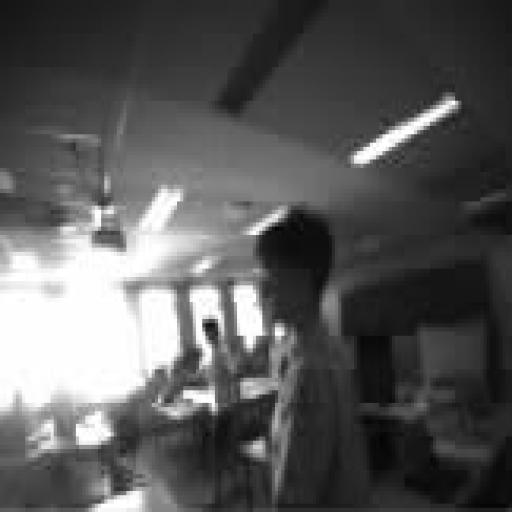human: (256, 210, 369, 511), (203, 319, 237, 407)
